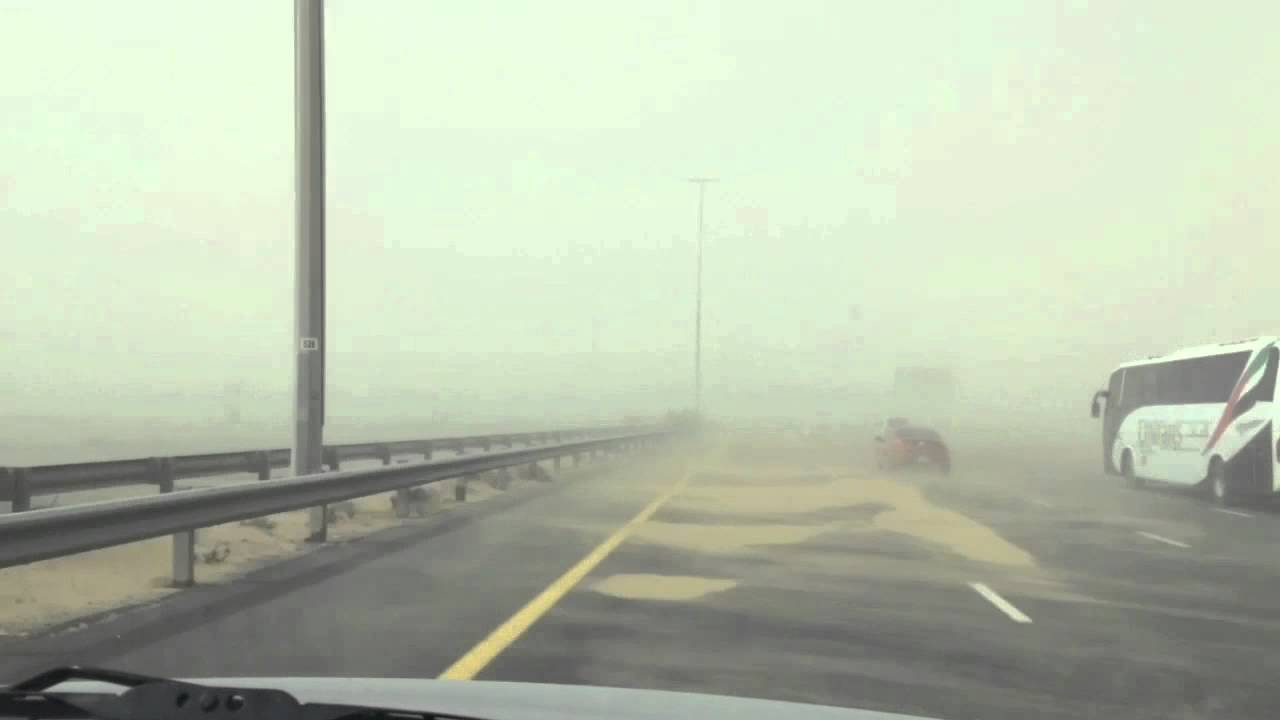bus: (1089, 337, 1275, 514)
car: (875, 427, 948, 476)
